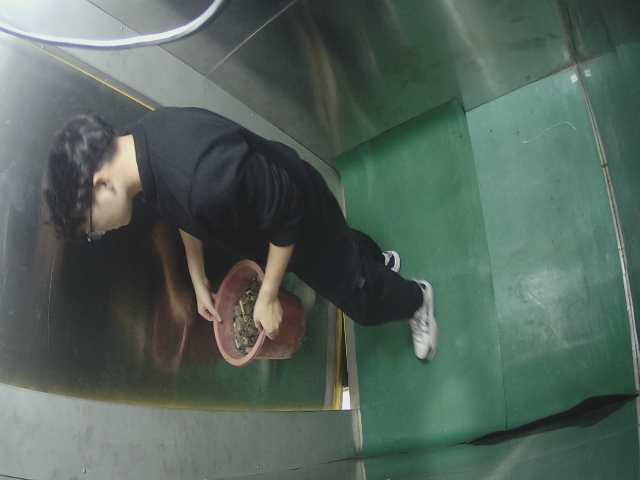flowerpot: (187, 252, 313, 370)
person: (56, 115, 448, 367)
